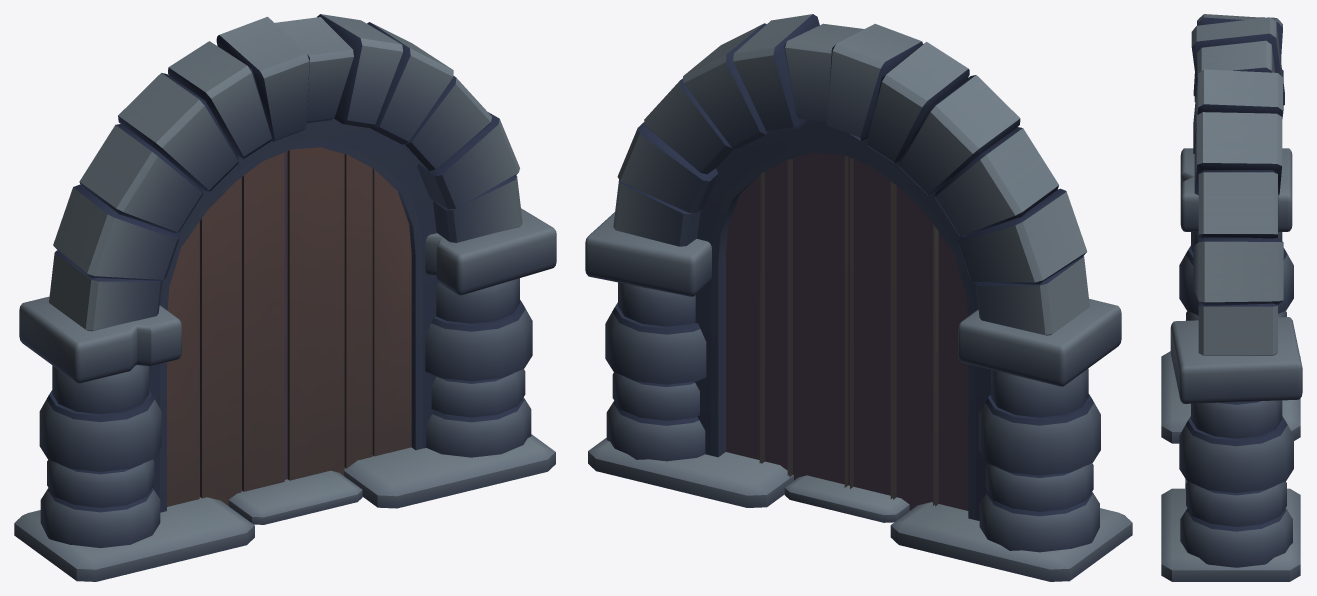
File: Polygon.1.fbx
The picture shows the model from 3 angles, left to right: view 1: azimuth 30°, elevation 25°; view 2: azimuth 150°, elevation 25°; view 3: azimuth 270°, elevation 25°; orthographic projection. The views are drawn at different scales.
Parts seen in each view (by area): view 1: Polygon_1; view 2: Polygon_1; view 3: Polygon_1.
Part boxes in pixels (box(x1,y1,x2,y2)): Polygon_1: box(14, 14, 556, 581); Polygon_1: box(585, 14, 1132, 581); Polygon_1: box(1161, 14, 1302, 581).
Bounding box in the file's own units: 111 × 103 × 29.66.
